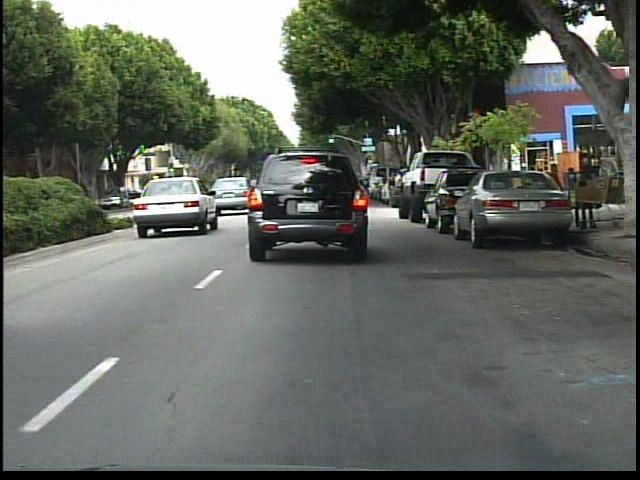car: (242, 146, 368, 263), (451, 174, 584, 252), (135, 176, 216, 237)
